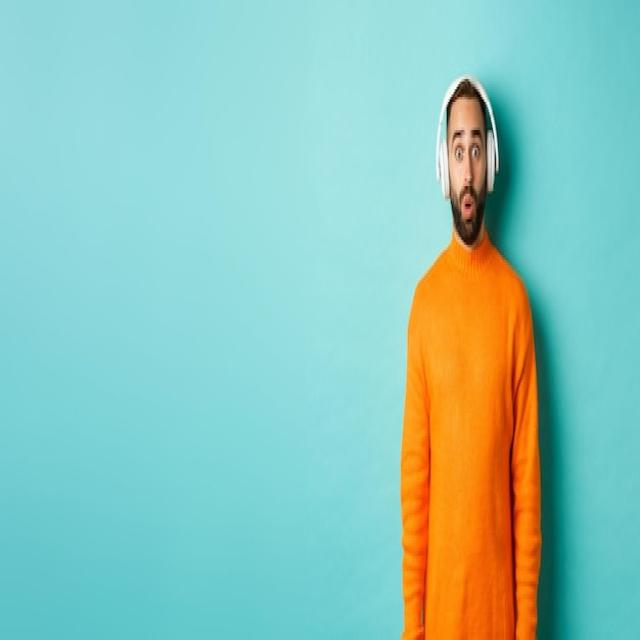Headphone: (434, 74, 499, 201)
